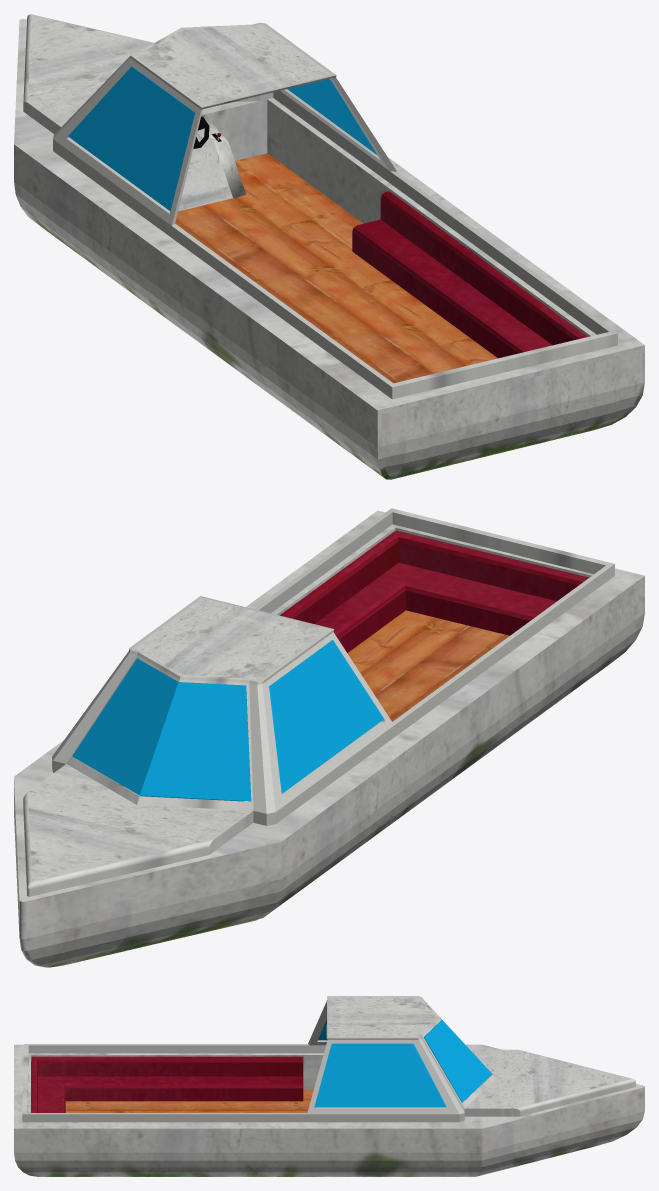
Rendered from boat.fbx.
3 renders of one model, top to bottom at view 1: azimuth 30°, elevation 25°; view 2: azimuth 150°, elevation 25°; view 3: azimuth 270°, elevation 25°, orthographic. The views are drawn at different scales.
Visible parts, largest first — view 1: boat; view 2: boat; view 3: boat.
Part boxes in pixels (<box>): boat: <box>14,14,644,479</box>; boat: <box>14,508,644,967</box>; boat: <box>14,996,644,1176</box>.
Size of the model in its own units: 301 by 220 by 956.
